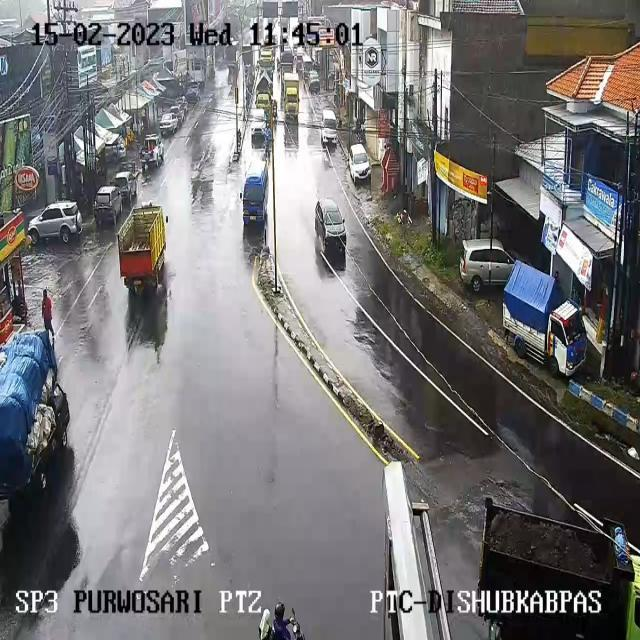Bus: (1, 332, 68, 505), (242, 163, 272, 226)
Car: (458, 240, 514, 294), (27, 200, 82, 243), (314, 198, 350, 255), (94, 186, 124, 226), (347, 144, 370, 182), (140, 134, 164, 168), (113, 171, 138, 203), (250, 108, 269, 142), (320, 109, 338, 143), (159, 112, 179, 134), (307, 70, 320, 93), (184, 86, 201, 103), (169, 106, 184, 124), (301, 52, 313, 73), (296, 46, 304, 61)
Motorbike: (257, 604, 301, 640), (274, 102, 279, 120)
Truck: (476, 497, 636, 635), (503, 263, 586, 378), (122, 201, 174, 293), (282, 73, 300, 121), (255, 73, 272, 118), (258, 47, 275, 70), (279, 48, 294, 72)
